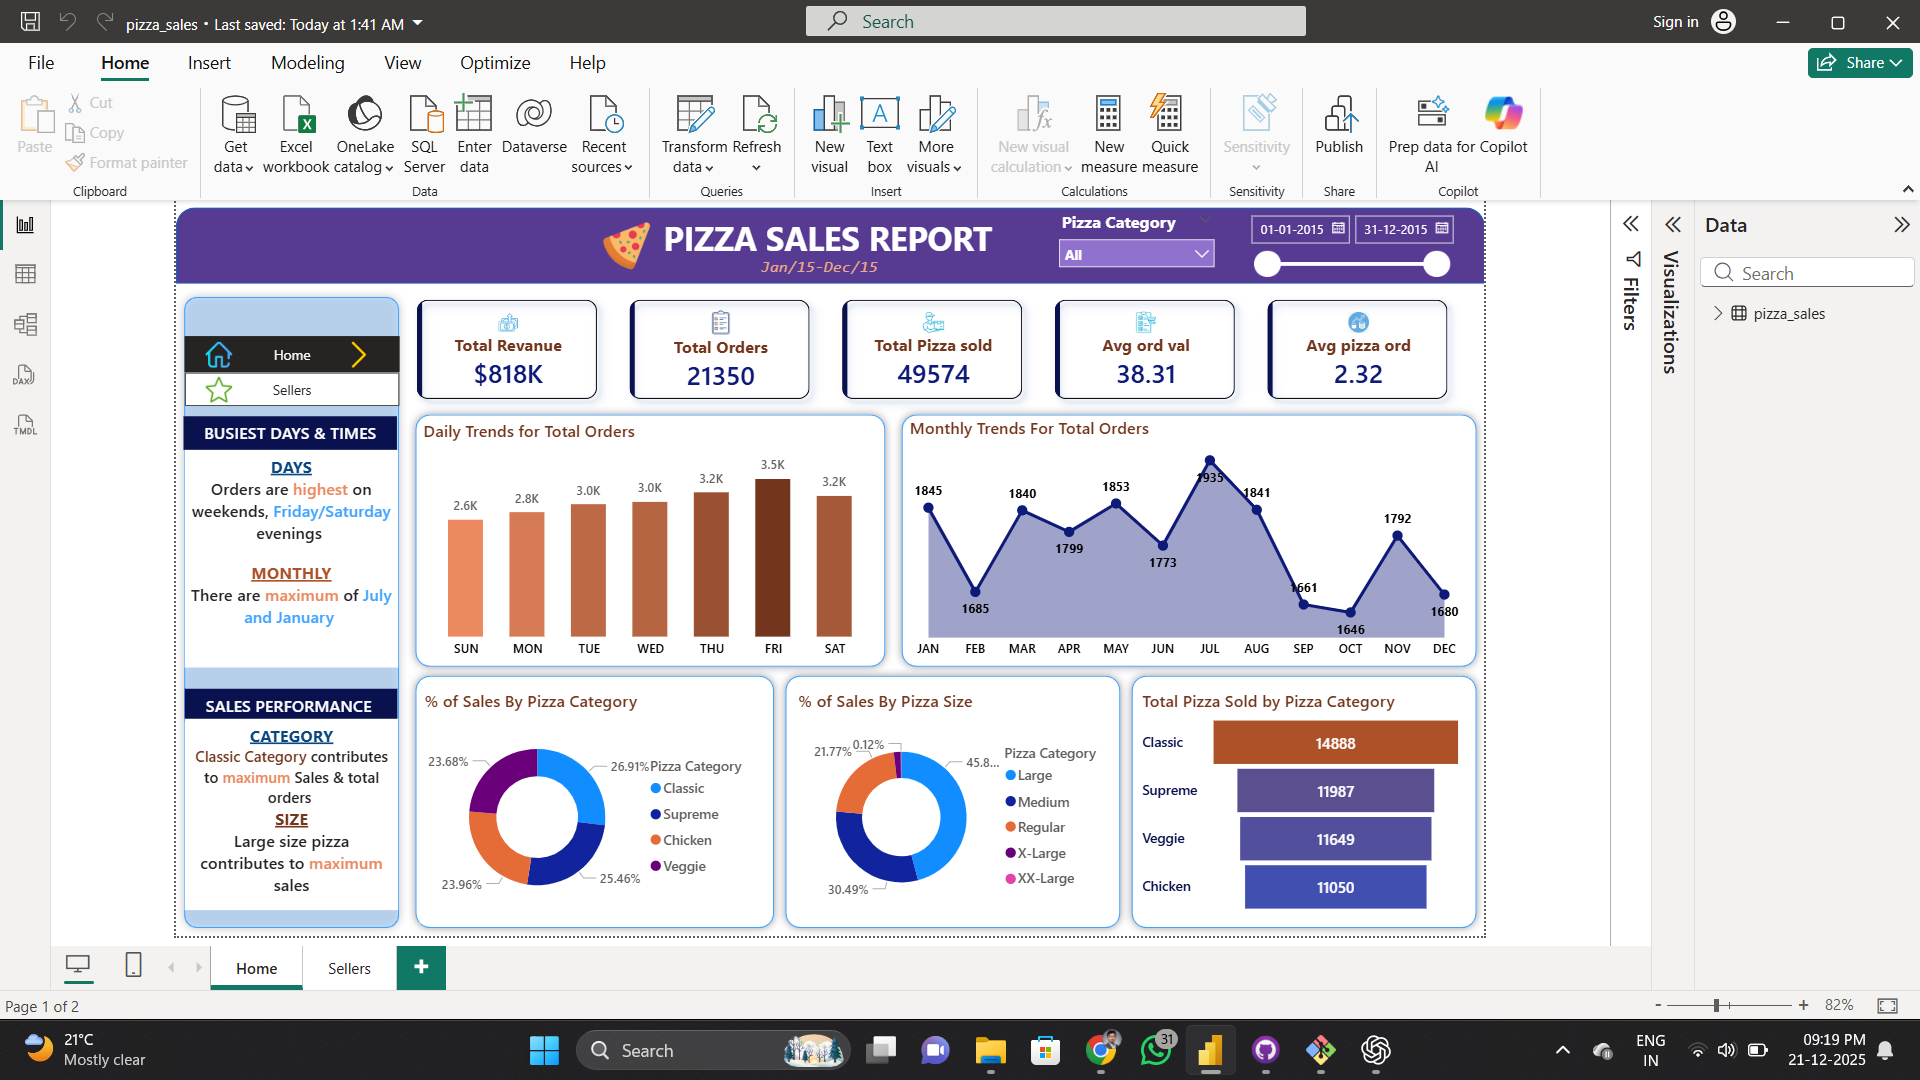

The page's visual inventory and layout, read from the dashboard file:
{"tool":"powerbi","page":{"name":"Home","canvas":[1280,720],"ordinal":0},"visuals":[{"type":"cardVisual","fields":{"Data":["pizza_sales.Total Revanue","pizza_sales.Total Orders","pizza_sales.pizza_sold","pizza_sales.avg_ord_val","pizza_sales.avg_pizza_order"]},"box":[203,64.8,1077.3,163.9],"z":0},{"type":"shape","box":[0,7.3,1280.3,74.6],"z":1000},{"type":"textbox","box":[472,11,335.1,55],"z":2000},{"type":"textbox","box":[567.4,51.4,134.5,30.6],"z":3000},{"type":"cardVisual","fields":{"Data":["pizza_sales.Pizza sold"]},"box":[256.8,0,225,90.5],"z":4000},{"type":"shape","box":[226.2,201.8,475.7,262.9],"z":5000},{"type":"columnChart","title":"Daily Trends for Total Orders ","fields":{"Category":["pizza_sales.Order Day"],"Y":["pizza_sales.Total Orders"]},"box":[237.2,214,454.9,243.3],"z":6000},{"type":"shape","box":[701.9,201.8,578.4,262.9],"z":7000},{"type":"areaChart","title":"Monthly Trends For Total Orders","fields":{"Category":["pizza_sales.Order Month"],"Y":["pizza_sales.Total Orders"]},"box":[712.9,211.6,551.5,245.8],"z":8000},{"type":"shape","box":[226.2,457.3,366.8,262.9],"z":9000},{"type":"shape","box":[588.2,457.3,343.6,262.9],"z":10000},{"type":"shape","box":[926.9,457.3,353.4,262.9],"z":11000},{"type":"donutChart","title":"% of Sales By Pizza Category ","fields":{"Category":["pizza_sales.pizza_category"],"Y":["pizza_sales.Total Revanue"]},"box":[238.5,478.1,341.2,229.9],"z":12000},{"type":"donutChart","title":"% of Sales By Pizza Size","fields":{"Y":["pizza_sales.Total Revanue"],"Category":["pizza_sales.pizza_size"]},"box":[604.1,478.1,314.3,229.9],"z":13000},{"type":"funnel","title":"Total Pizza Sold by Pizza Category","fields":{"Category":["pizza_sales.pizza_category"],"Y":["pizza_sales.Total Pizza sold"]},"box":[940.4,478.1,324.1,225],"z":14000},{"type":"shape","box":[0,86.8,226.2,633.4],"z":15000},{"type":"textbox","box":[8.6,478.1,207.9,31.8],"z":16000},{"type":"textbox","box":[8.6,244.3,208.6,212.9],"z":17000},{"type":"textbox","box":[7.3,211.6,209.1,33],"z":18000},{"type":"textbox","box":[8.6,507.5,209.1,187.1],"z":19000},{"type":"slicer","fields":{"Values":["pizza_sales.pizza_category"]},"box":[853.5,4.9,172.4,67.3],"z":20000},{"type":"slicer","fields":{"Values":["pizza_sales.order_date"]},"box":[1039.4,4.9,215.2,81.9],"z":21000},{"type":"pageNavigator","box":[8.6,133.3,210.3,35.5],"z":22000},{"type":"pageNavigator","box":[8.6,168.8,210.3,33],"z":23000},{"type":"cardVisual","fields":{"Data":["Sum(pizza_sales.Month Number)"]},"box":[0,50.1,203,203],"z":24000},{"type":"cardVisual","fields":{"Data":["Sum(pizza_sales.Month Number)"]},"box":[137,50.1,203,203],"z":25000},{"type":"cardVisual","fields":{"Data":["Sum(pizza_sales.Month Number)"]},"box":[0,84.4,203,203],"z":26000}]}

Visuals, with their boxes on the page's 1280x720 design canvas (x1, y1, x2, y2). These are canvas units, not pixel positions in the 1920x1080 screenshot, which may show the page scaled, cropped or inside an application window:
cardVisual - pizza_sales.Total Revanue x pizza_sales.Total Orders: <box>203,65,1280,229</box>
shape: <box>0,7,1280,82</box>
textbox: <box>472,11,807,66</box>
textbox: <box>567,51,702,82</box>
cardVisual - pizza_sales.Pizza sold: <box>257,0,482,90</box>
shape: <box>226,202,702,465</box>
"Daily Trends for Total Orders " columnChart: <box>237,214,692,457</box>
shape: <box>702,202,1280,465</box>
"Monthly Trends For Total Orders" areaChart: <box>713,212,1264,457</box>
shape: <box>226,457,593,720</box>
shape: <box>588,457,932,720</box>
shape: <box>927,457,1280,720</box>
"% of Sales By Pizza Category " donutChart: <box>238,478,580,708</box>
"% of Sales By Pizza Size" donutChart: <box>604,478,918,708</box>
"Total Pizza Sold by Pizza Category" funnel: <box>940,478,1264,703</box>
shape: <box>0,87,226,720</box>
textbox: <box>9,478,216,510</box>
textbox: <box>9,244,217,457</box>
textbox: <box>7,212,216,245</box>
textbox: <box>9,508,218,695</box>
slicer - pizza_sales.pizza_category: <box>854,5,1026,72</box>
slicer - pizza_sales.order_date: <box>1039,5,1255,87</box>
pageNavigator: <box>9,133,219,169</box>
pageNavigator: <box>9,169,219,202</box>
cardVisual - Sum(pizza_sales.Month Number): <box>0,50,203,253</box>
cardVisual - Sum(pizza_sales.Month Number): <box>137,50,340,253</box>
cardVisual - Sum(pizza_sales.Month Number): <box>0,84,203,287</box>
